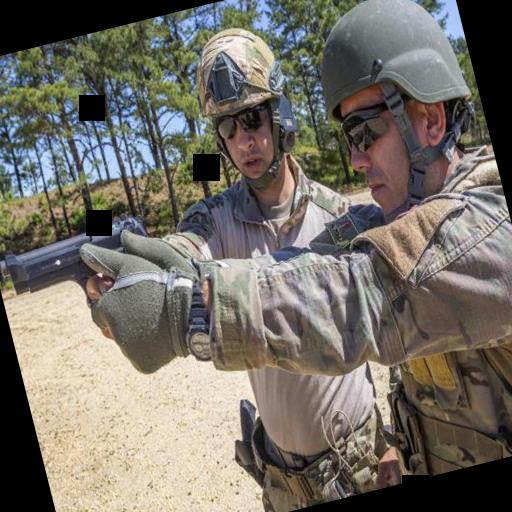Handgun: (0, 207, 161, 320)
